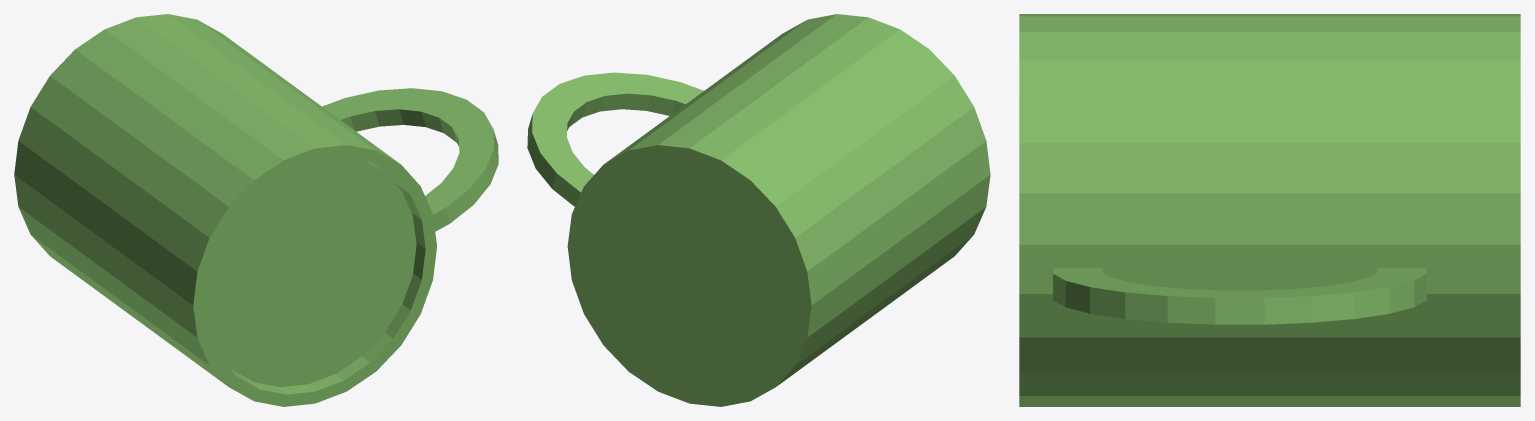
Rendered from mug_collision2.obj.
The picture shows the model from 3 angles, left to right: view 1: azimuth 30°, elevation 25°; view 2: azimuth 150°, elevation 25°; view 3: azimuth 270°, elevation 25°; orthographic projection. The views are drawn at different scales.
Visible parts, largest first — view 1: material_1_24, material_2_2_8, material_0_1_8; view 2: material_1_24, material_0_1_8; view 3: material_1_24, material_0_1_8.
Boxes of the visible parts, x1=… form: material_1_24: x1=14, y1=14, x2=498, y2=406; material_2_2_8: x1=204, y1=157, x2=416, y2=387; material_0_1_8: x1=15, y1=14, x2=498, y2=406; material_1_24: x1=527, y1=14, x2=990, y2=406; material_0_1_8: x1=528, y1=15, x2=989, y2=406; material_1_24: x1=1019, y1=14, x2=1520, y2=406; material_0_1_8: x1=1019, y1=14, x2=1520, y2=406.
Bounding box in the file's own units: 0.1223 × 0.0816 × 0.1038.
